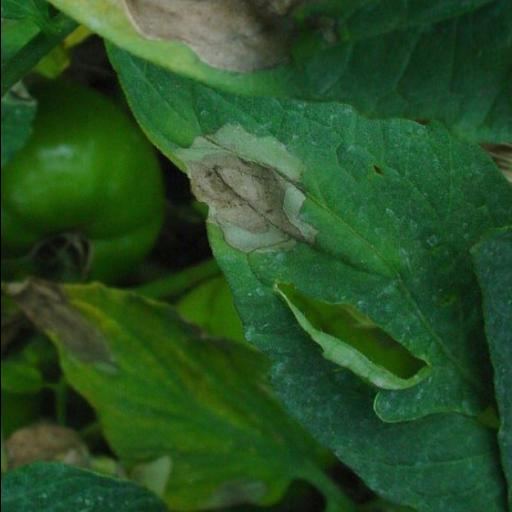Late Blight: (104, 35, 504, 511)
